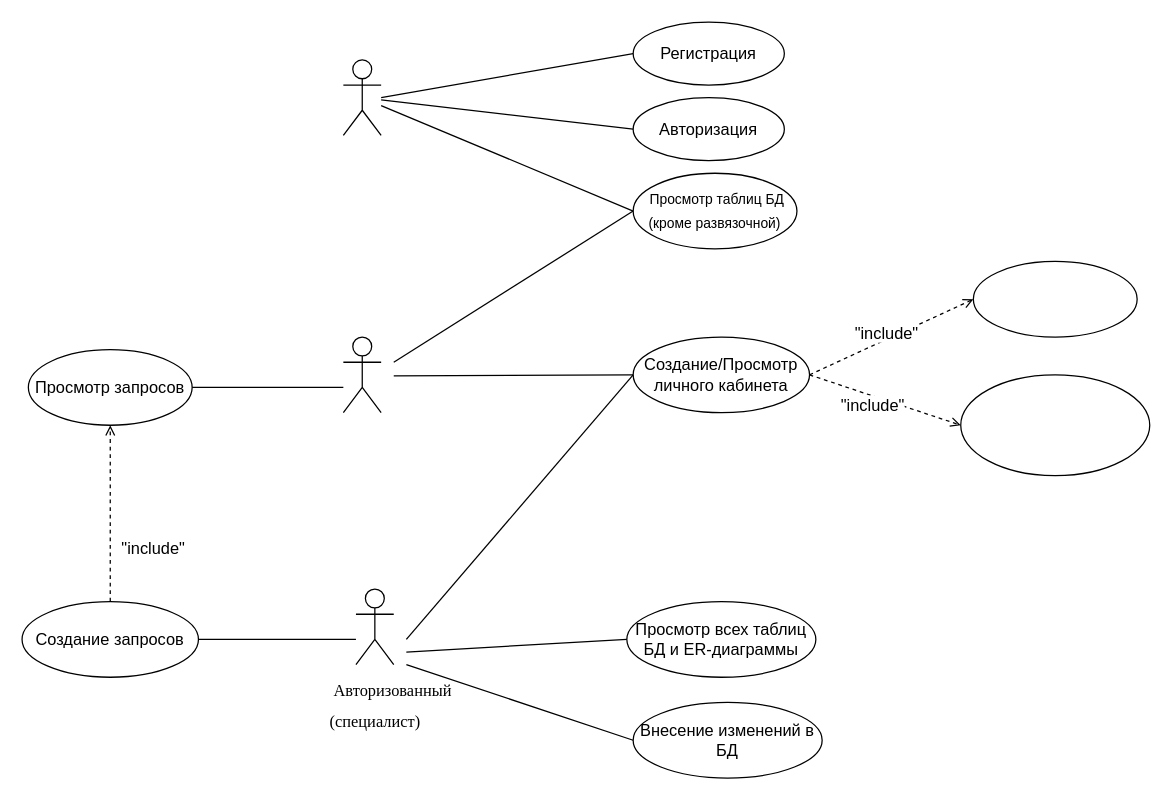
The diagram is 1172 pixels wide and 800 high, and some of its shapes have lost their labels. The box of each missing label's shape, as (x1, y1, x2, y2) in pixels:
Авторизованный (обычный пользователь): (342, 336, 381, 413)
Неавторизованный: (342, 59, 381, 135)
Просмотр статистики заболевших на своей улице проживания: (959, 374, 1150, 476)
Фиксация состояния здоровья: (972, 260, 1137, 337)
